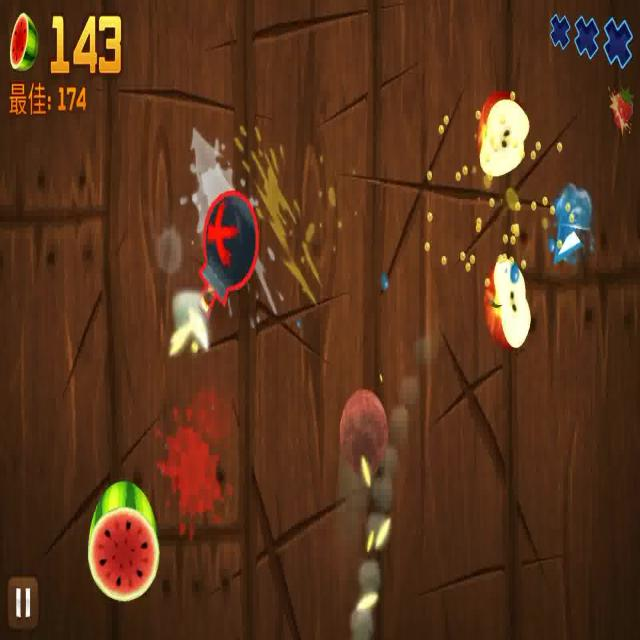bomb: (170, 192, 257, 350)
fruit: (82, 487, 164, 597), (472, 91, 532, 176), (334, 386, 389, 476), (477, 260, 531, 350)
